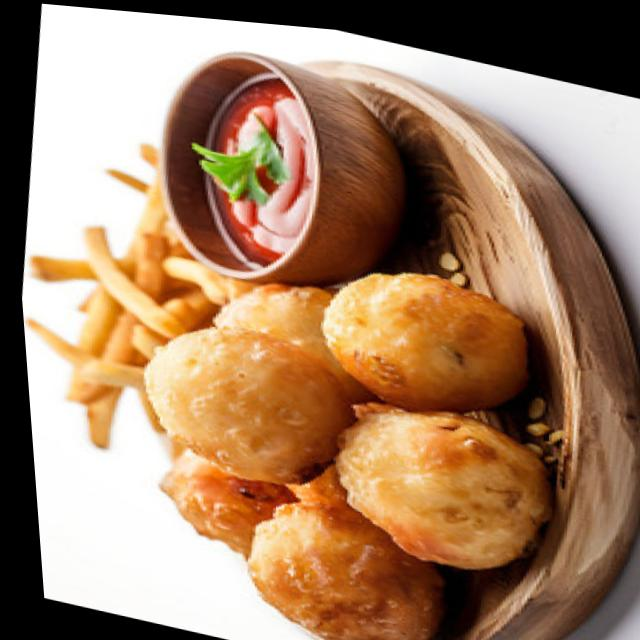BONDA: (144, 276, 547, 640)
SAUCE: (206, 72, 317, 278)
